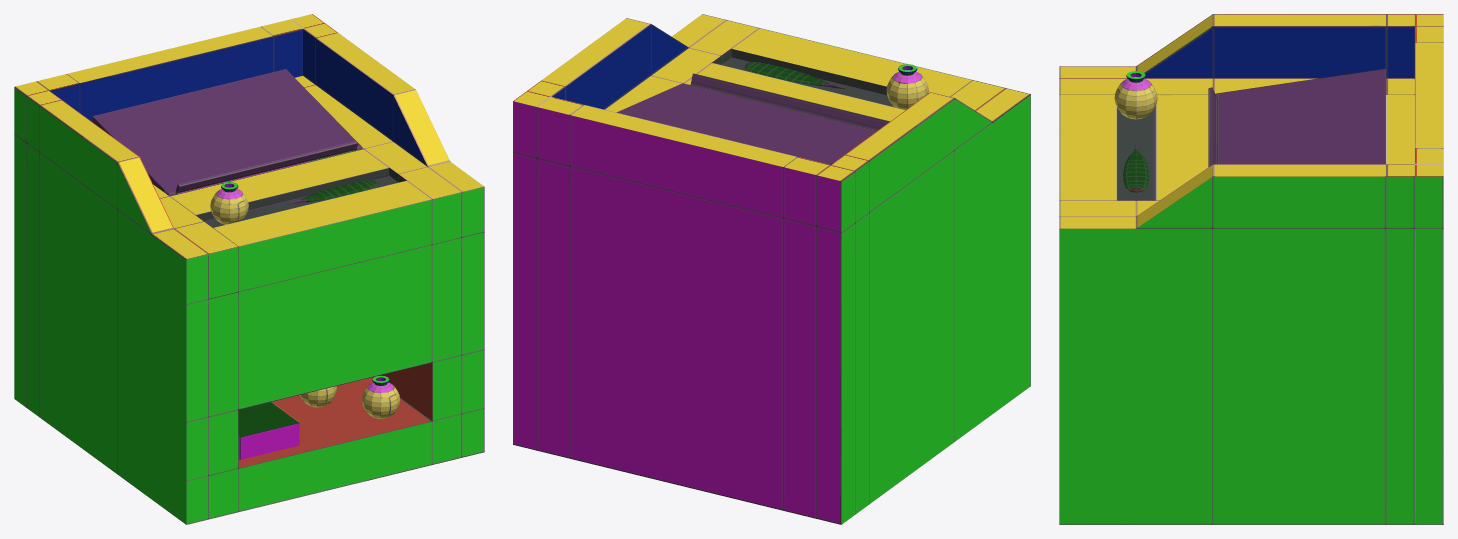
File: Binder.obj
3 views of the same model, side by side, from view 1: azimuth 30°, elevation 25°; view 2: azimuth 150°, elevation 25°; view 3: azimuth 270°, elevation 25° (orthographic). The views are drawn at different scales.
Parts seen in each view (by area): view 1: BookHolder_Cube, PaperReserve_Cube.002, InkHolderReserve2_Sphere.002, InkHolder_Sphere, Cube_Cube.001; view 2: BookHolder_Cube, InkHolder_Sphere, Cube_Cube.001; view 3: BookHolder_Cube, InkHolder_Sphere, Cube_Cube.001.
Boxes of the visible parts, x1,y1,x2,y2 form: BookHolder_Cube: [14, 14, 484, 524]; PaperReserve_Cube.002: [238, 402, 299, 459]; InkHolderReserve2_Sphere.002: [361, 375, 400, 418]; InkHolder_Sphere: [210, 182, 248, 224]; Cube_Cube.001: [287, 180, 377, 204]; BookHolder_Cube: [513, 14, 1030, 524]; InkHolder_Sphere: [886, 64, 928, 109]; Cube_Cube.001: [745, 62, 844, 88]; BookHolder_Cube: [1059, 14, 1443, 524]; InkHolder_Sphere: [1114, 71, 1157, 119]; Cube_Cube.001: [1123, 143, 1149, 192].
Bounding box in the file's own units: 1 × 1 × 1.
4 materials, 4 textured.
